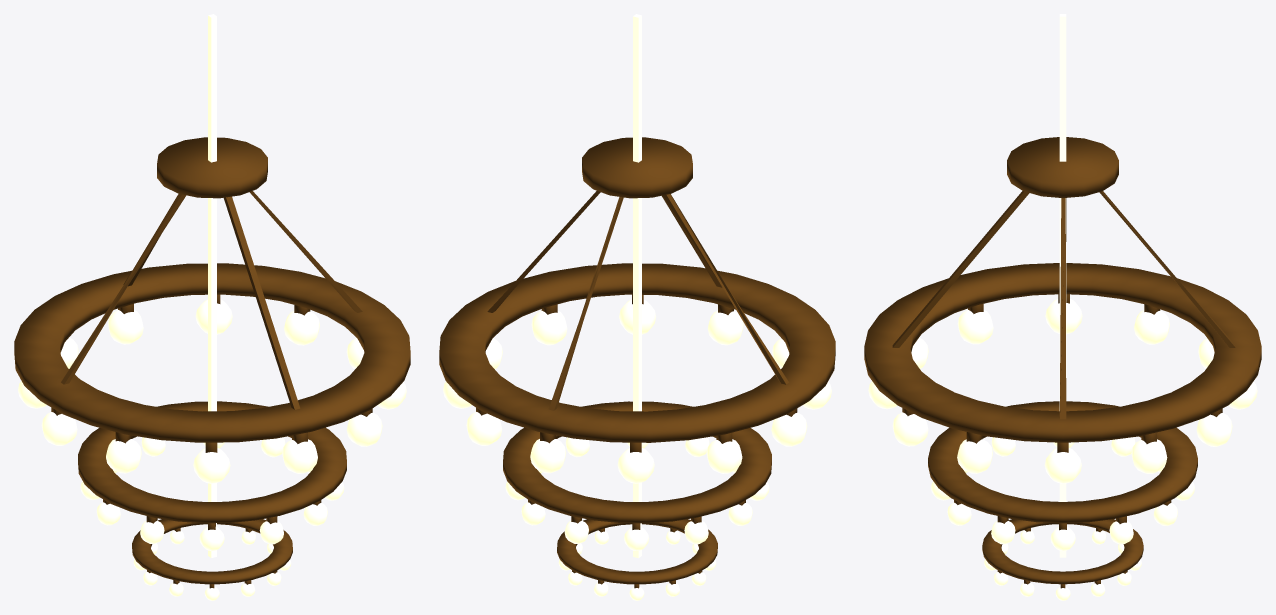
Rendered from Chandelier.fbx.
3 renders of one model, left to right at view 1: azimuth 30°, elevation 25°; view 2: azimuth 150°, elevation 25°; view 3: azimuth 270°, elevation 25°, orthographic.
Parts seen in each view (by area): view 1: Chandelier; view 2: Chandelier; view 3: Chandelier.
Boxes of the visible parts, <box> form: Chandelier: <box>14,14,410,600</box>; Chandelier: <box>439,14,835,600</box>; Chandelier: <box>864,14,1261,600</box>.
Bounding box in the file's own units: 303 × 466 × 303.
